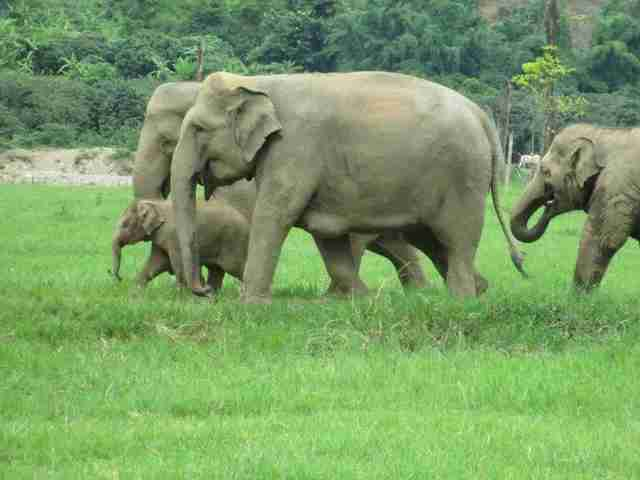elephant: (168, 64, 530, 306), (131, 70, 429, 293), (510, 117, 640, 301), (106, 193, 282, 301)
